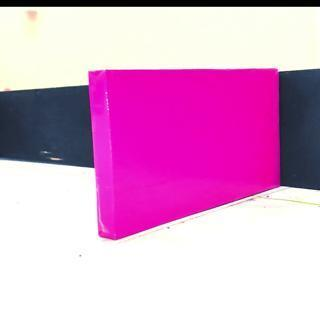xparking: (95, 72, 278, 211)
